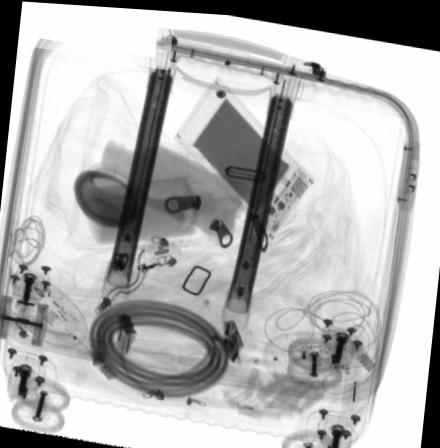Powerbank: (173, 74, 315, 238)
